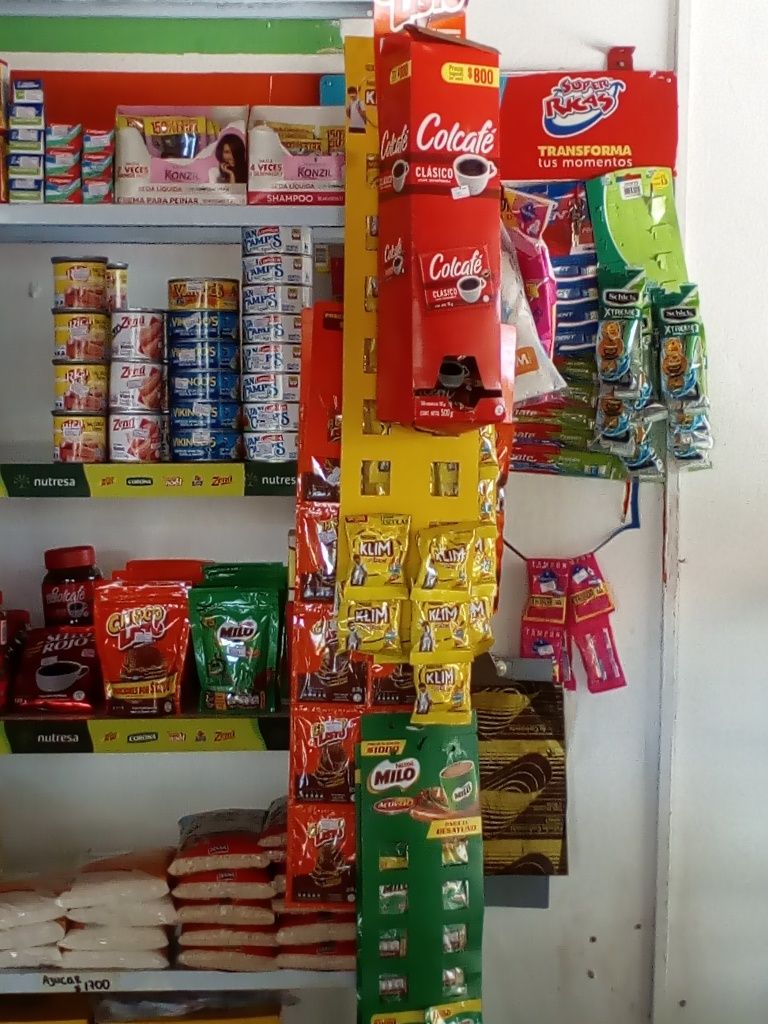COL0170103SOB02000: (292, 597, 361, 709)
